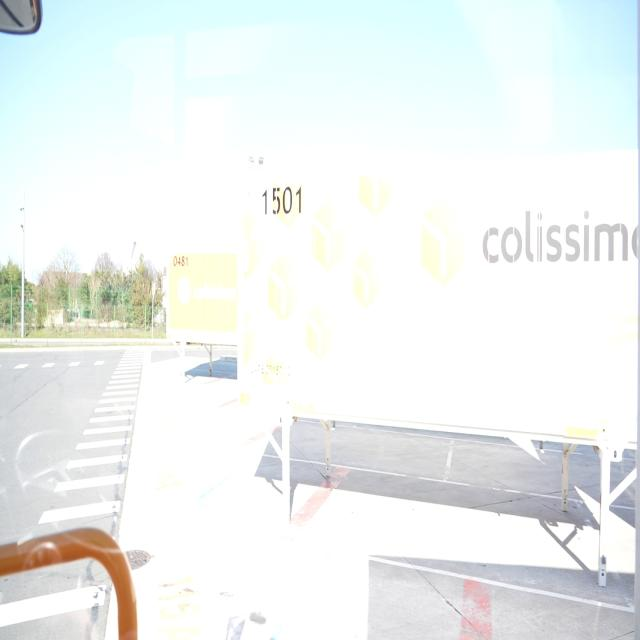Code: (260, 183, 306, 220), (172, 250, 191, 270)
